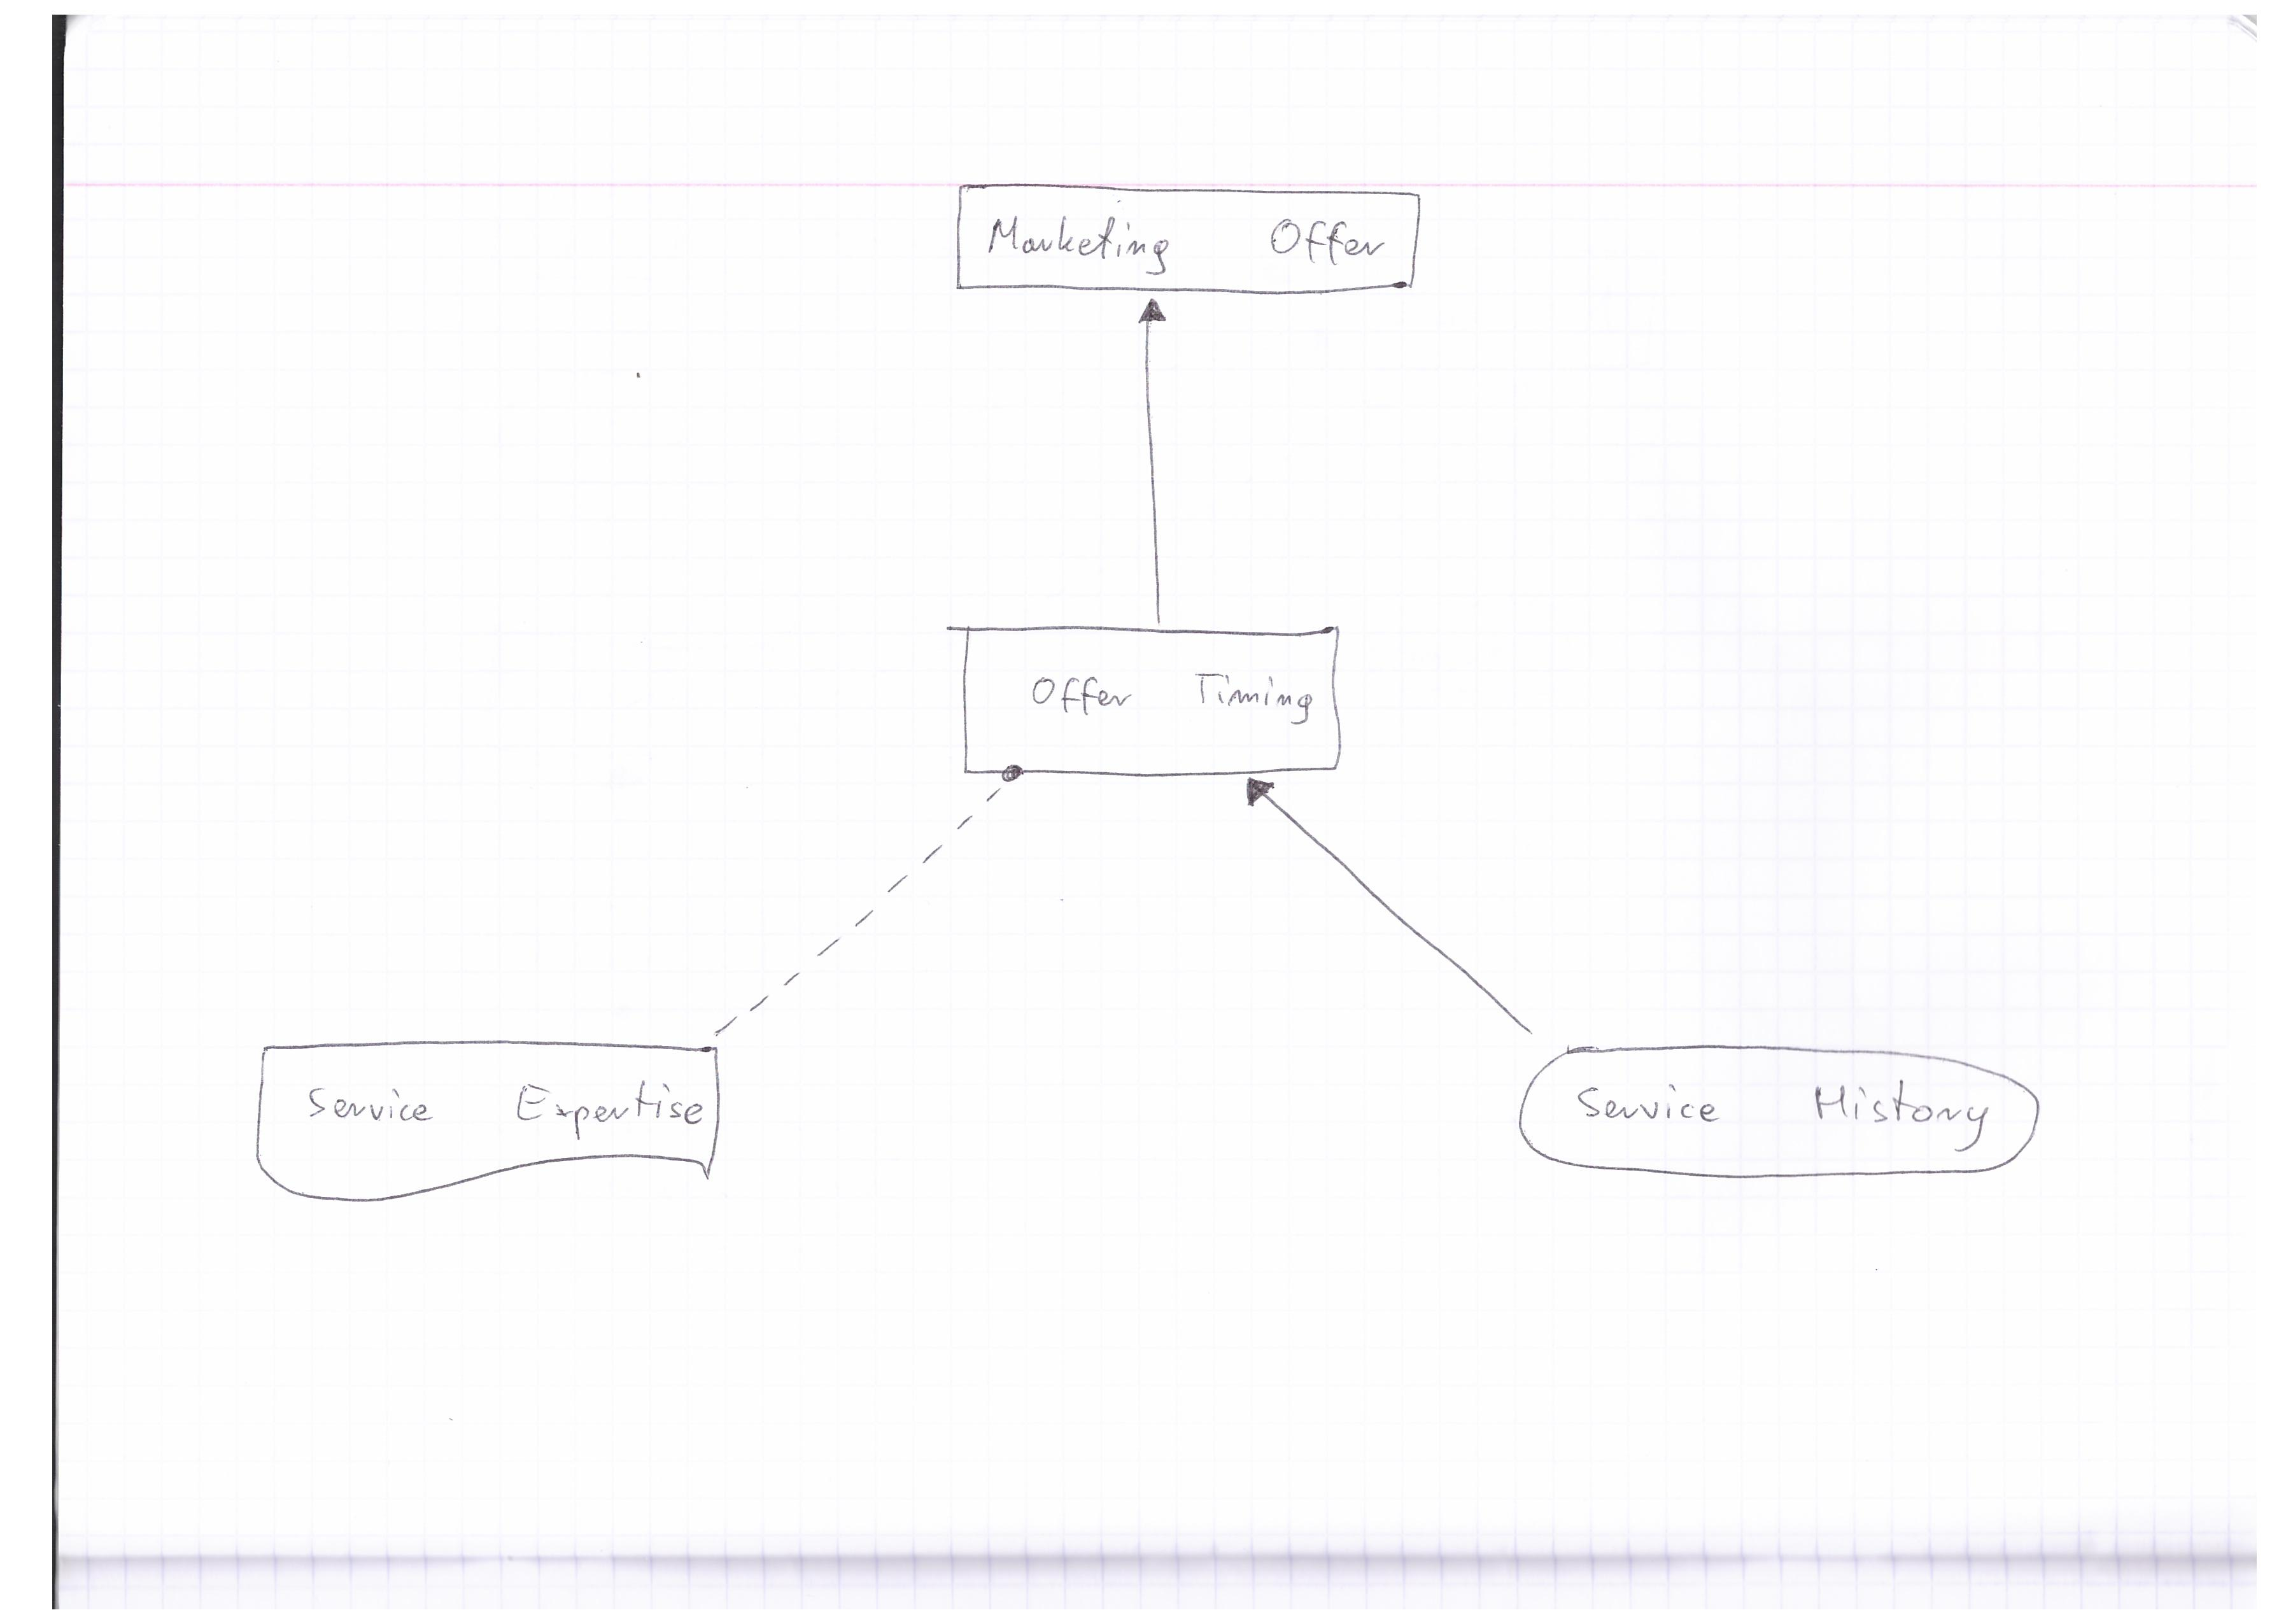arrow_authority_requirement: (689, 758, 1033, 1046)
arrow_information_requirement: (1228, 775, 1548, 1049), (1116, 285, 1197, 626)
node_decision: (930, 620, 1369, 784), (945, 172, 1434, 297)
node_input_data: (1494, 1033, 2068, 1199)
node_knowledge_source: (244, 1035, 736, 1220)
text: (1560, 1065, 2001, 1160), (286, 1070, 708, 1148), (1016, 649, 1321, 747), (968, 206, 1395, 276)
